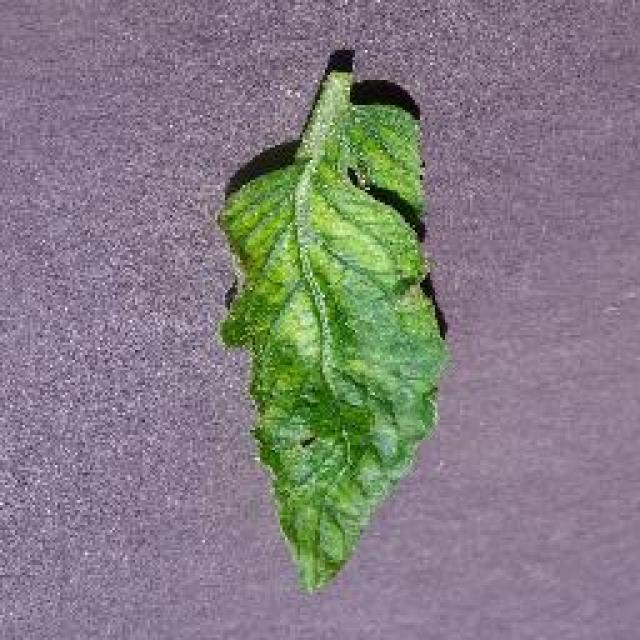Tomato spider mites leaf: (215, 75, 453, 593)
